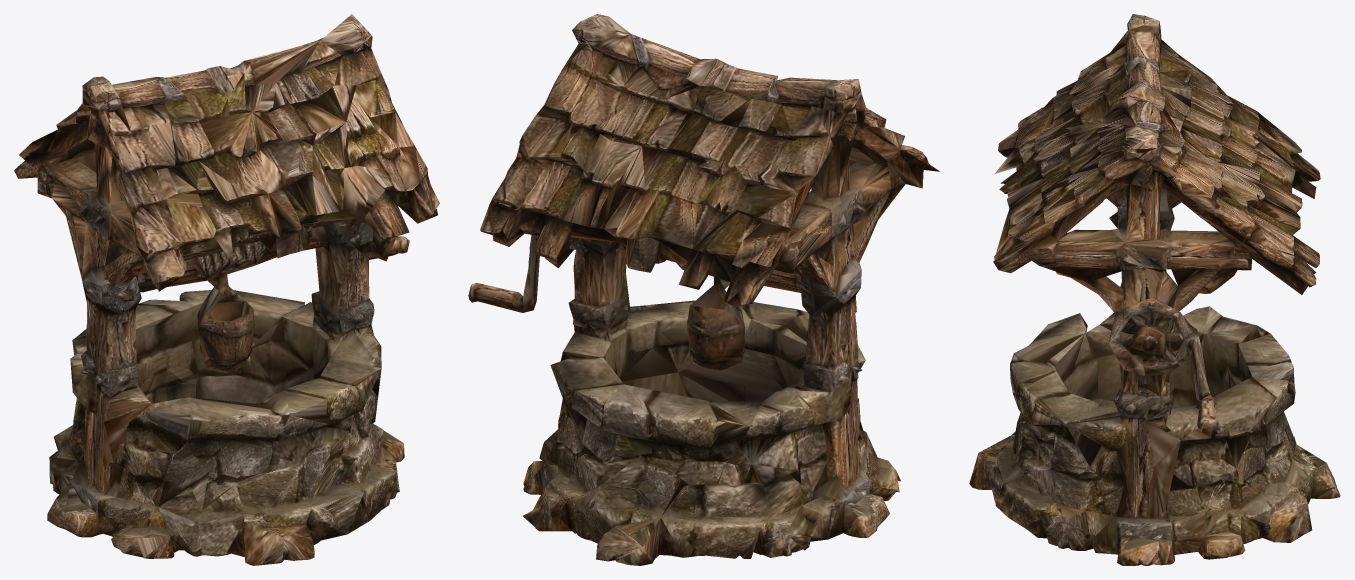
The picture shows the model from 3 angles, left to right: view 1: azimuth 30°, elevation 25°; view 2: azimuth 150°, elevation 25°; view 3: azimuth 270°, elevation 25°; orthographic projection. The views are drawn at different scales.
Visible parts, largest first — view 1: tripo_node_461096ef-6fcf-401a-be23-18057981acc8; view 2: tripo_node_461096ef-6fcf-401a-be23-18057981acc8; view 3: tripo_node_461096ef-6fcf-401a-be23-18057981acc8.
Part boxes in pixels (x1=…): tripo_node_461096ef-6fcf-401a-be23-18057981acc8: x1=14, y1=14, x2=439, y2=565; tripo_node_461096ef-6fcf-401a-be23-18057981acc8: x1=468, y1=14, x2=939, y2=565; tripo_node_461096ef-6fcf-401a-be23-18057981acc8: x1=969, y1=14, x2=1340, y2=565.
Size of the model in its own units: 0.8839 by 0.9785 by 0.7935.
Materials: 1 (1 with a texture image).
